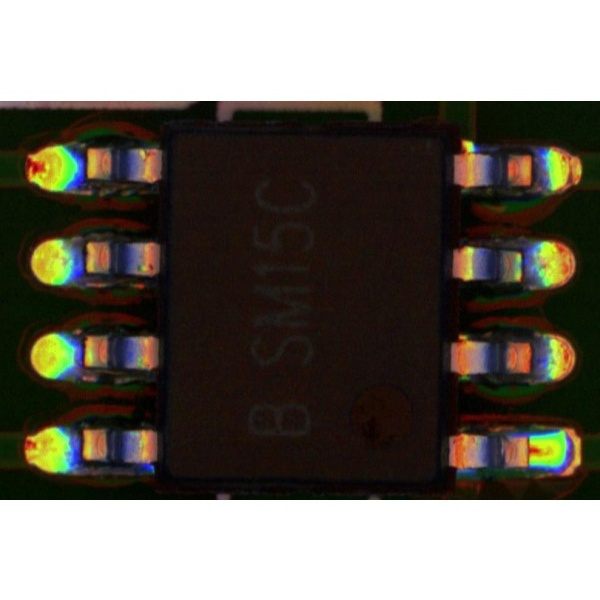Bad_podu: (520, 437, 542, 463)
